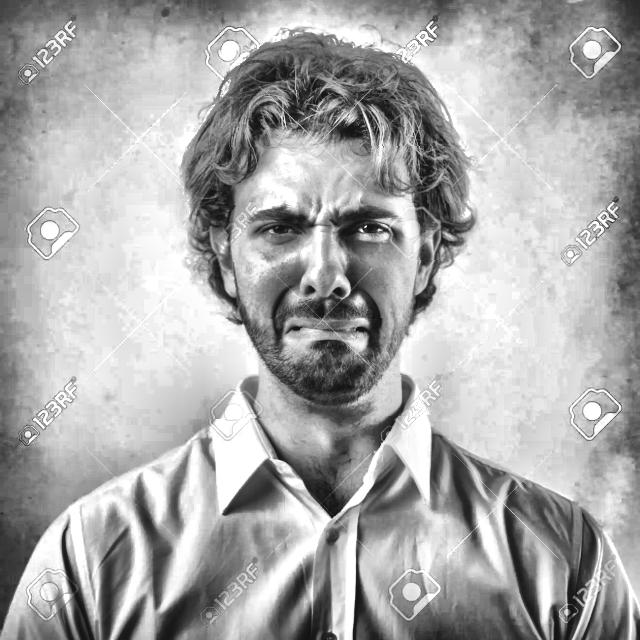sad: (174, 47, 480, 418)
